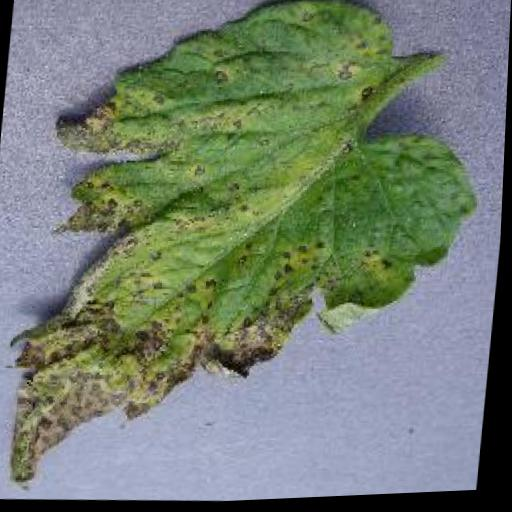Septoria: (0, 0, 497, 507)
